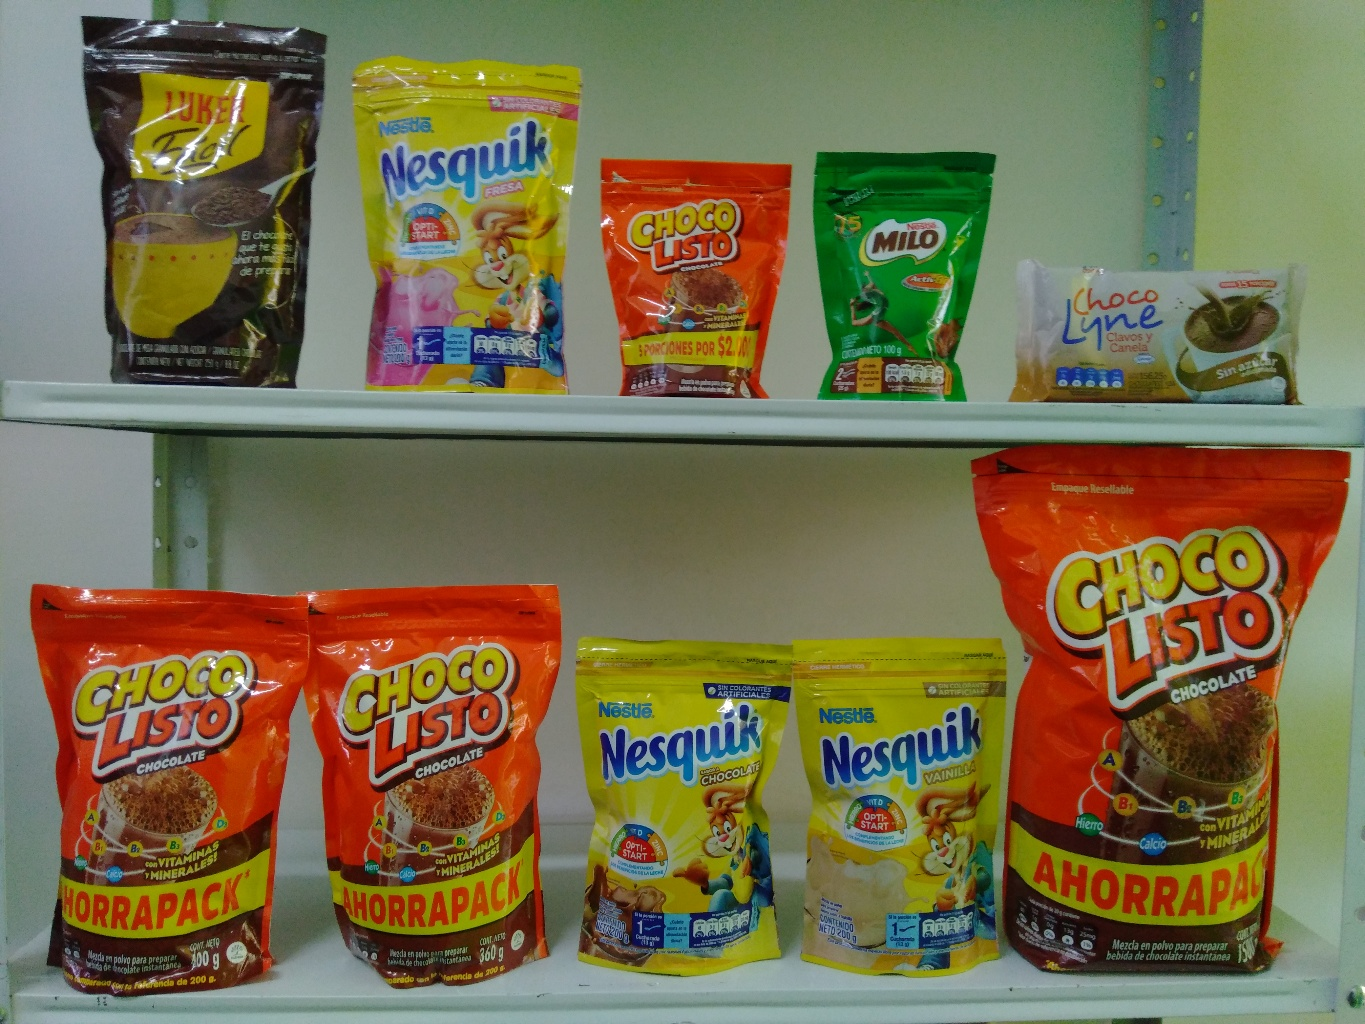COL0170103DYP1,500: (522, 2, 768, 435)
COL0170103DYP36000: (611, 584, 768, 969)
COL0170203LAT40000: (99, 233, 284, 419)
